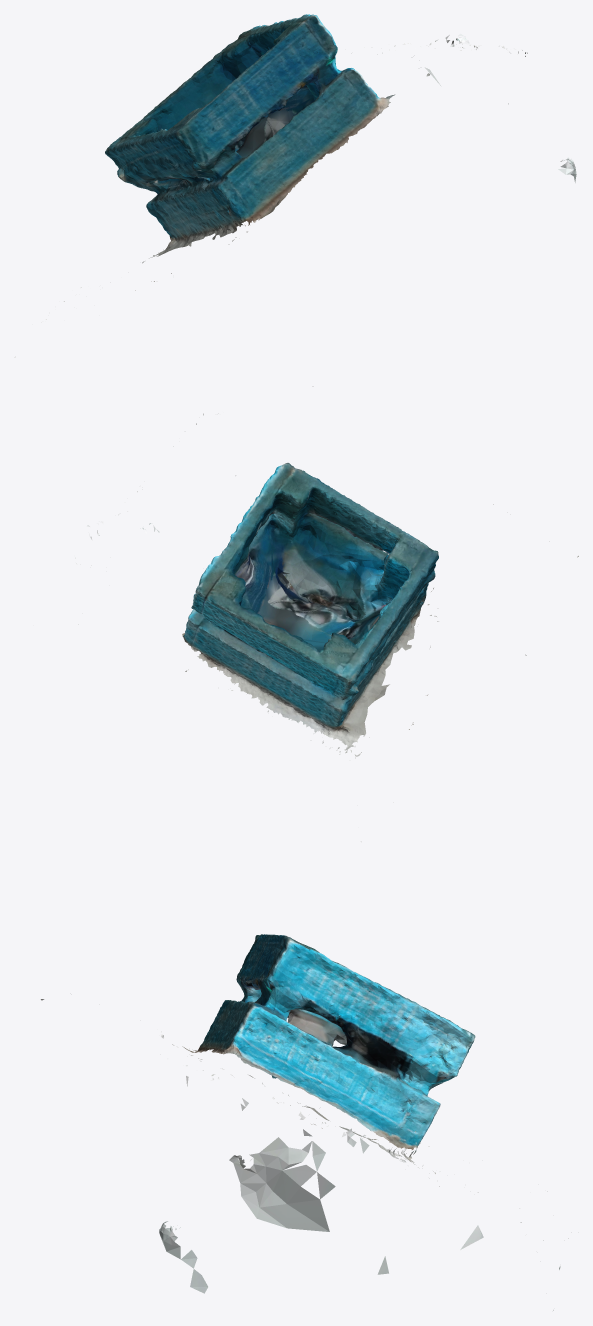
Rendered from prac3.glb.
3 renders of one model, top to bottom at view 1: azimuth 30°, elevation 25°; view 2: azimuth 150°, elevation 25°; view 3: azimuth 270°, elevation 25°, orthographic. The views are drawn at different scales.
Size of the model in its own units: 15.31 by 11.36 by 14.54.
1 material, 1 textured.
